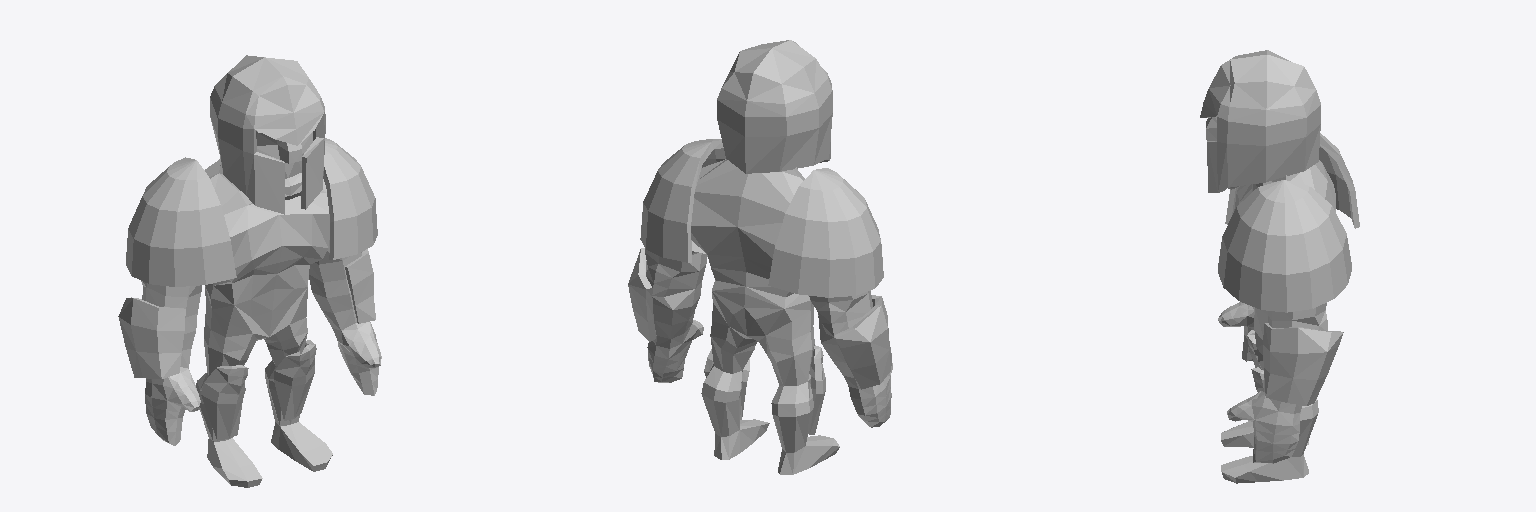
Rendered from BodyTest5.obj.
The picture shows the model from 3 angles: view 1: azimuth 30°, elevation 25°; view 2: azimuth 150°, elevation 25°; view 3: azimuth 270°, elevation 25°; orthographic projection.
Parts seen in each view (by area): view 1: Cube.006, Cube.005, Sphere.000, Sphere.002, Cube.009, Cube.010, Cube.008, Cube.007; view 2: Cube.006, Cube.005, Sphere.000, Sphere.002, Cube.009, Cube.007, Cube.010; view 3: Sphere.002, Cube.005, Cube.006, Cube.007, Sphere.000.
Part boxes in pixels (left/top/right/bottom): Cube.006: left=141, top=130, right=381, bottom=487; Cube.005: left=210, top=55, right=325, bottom=214; Sphere.000: left=126, top=157, right=236, bottom=286; Sphere.002: left=323, top=138, right=377, bottom=259; Cube.009: left=118, top=297, right=185, bottom=378; Cube.010: left=201, top=365, right=248, bottom=440; Cube.008: left=274, top=340, right=316, bottom=420; Cube.007: left=345, top=249, right=375, bottom=323; Cube.006: left=645, top=159, right=892, bottom=474; Cube.005: left=717, top=40, right=832, bottom=173; Sphere.000: left=768, top=168, right=883, bottom=297; Sphere.002: left=640, top=139, right=725, bottom=262; Cube.009: left=835, top=295, right=891, bottom=389; Cube.007: left=628, top=248, right=655, bottom=341; Cube.010: left=808, top=345, right=825, bottom=434; Sphere.002: left=1218, top=180, right=1351, bottom=312; Cube.005: left=1200, top=50, right=1320, bottom=192; Cube.006: left=1206, top=117, right=1335, bottom=483; Cube.007: left=1263, top=323, right=1343, bottom=405; Sphere.000: left=1225, top=133, right=1359, bottom=228.
Bounding box in the file's own units: 1.79 × 2.83 × 1.01.